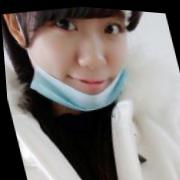WRONG: (23, 2, 148, 122)
